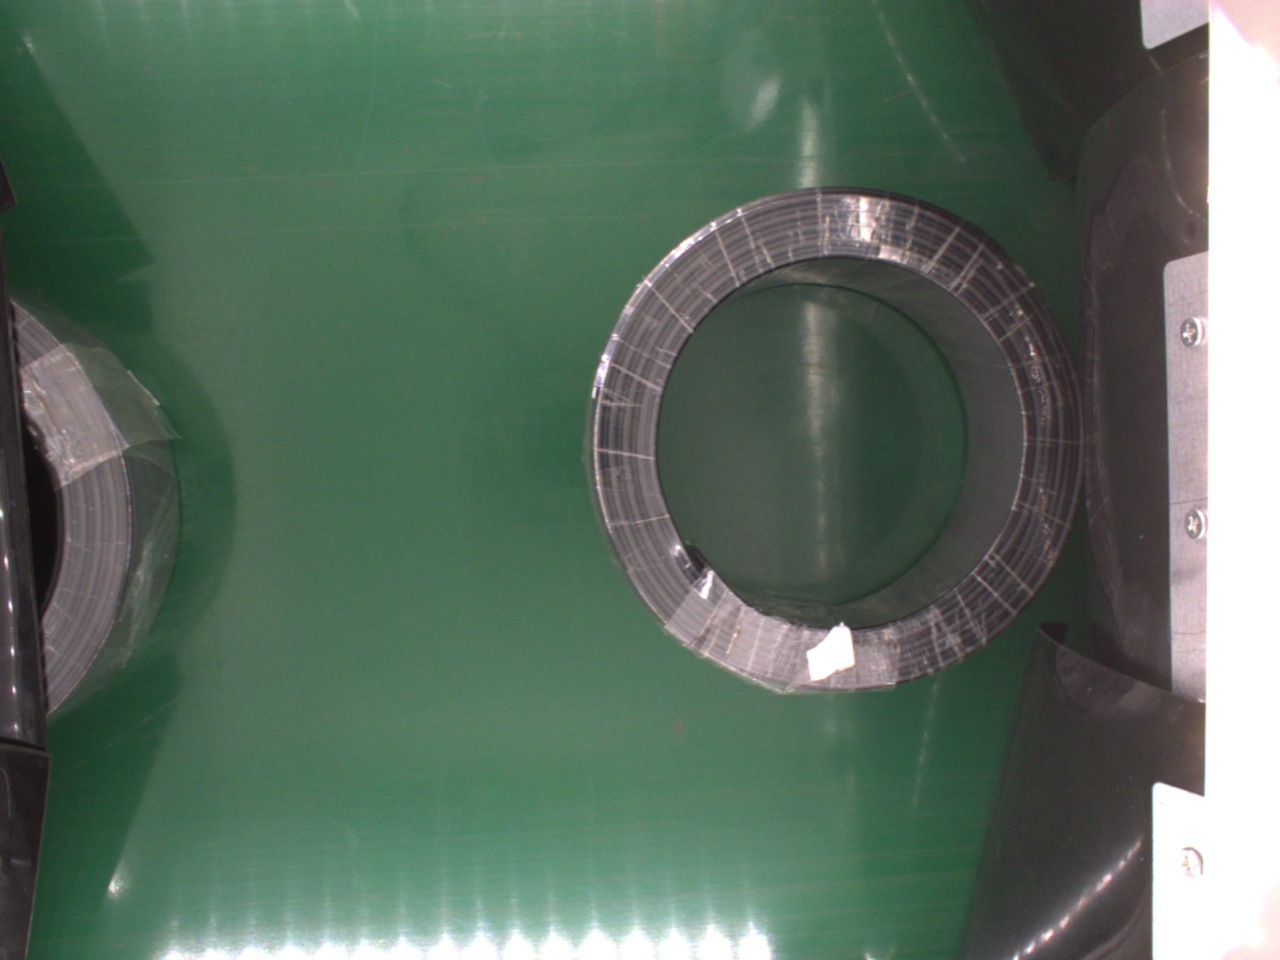black: (585, 187, 1087, 696), (10, 295, 178, 729)
